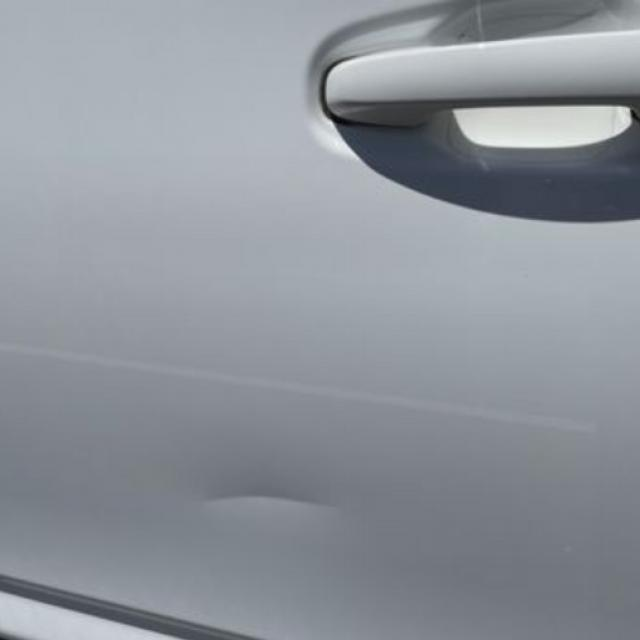dents: (169, 462, 385, 564)
